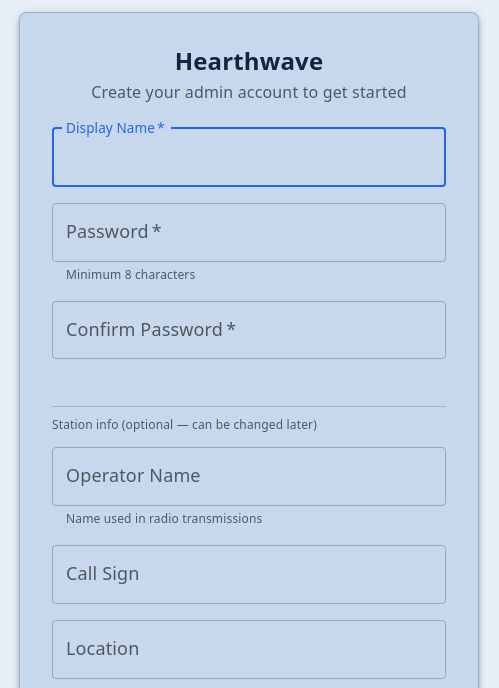
SetupScreen › error display › clears error when display name changes after error
Type "Admin" into the field labelled "Display Name *" at [249, 157], box [52, 128, 446, 187]
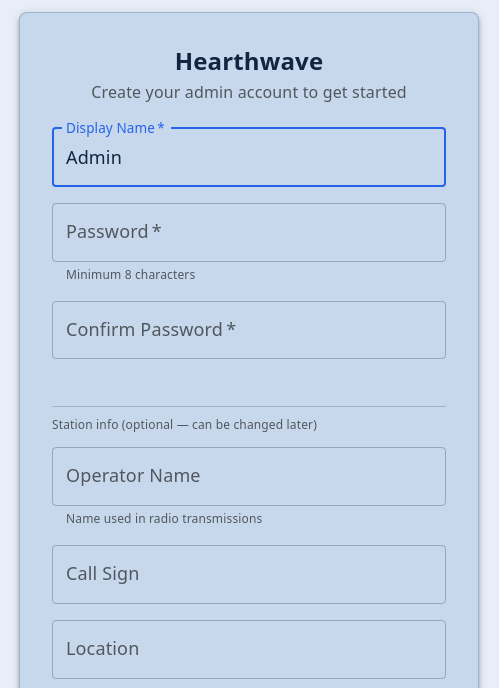
Type "password123" into the password field labelled "Password *" at [249, 232], box [52, 203, 446, 262]
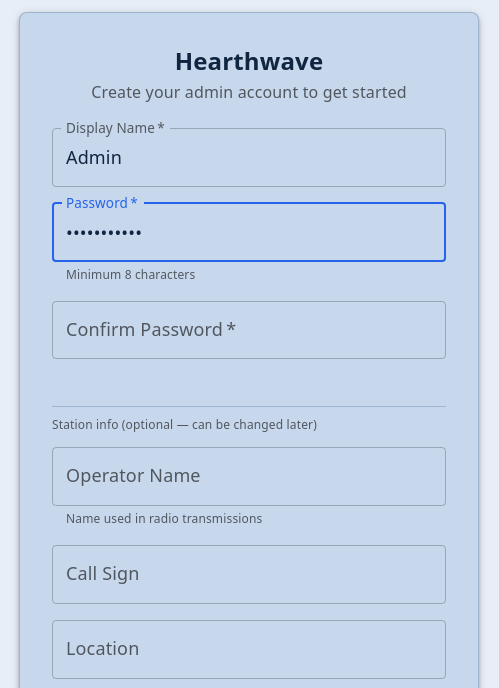
Type "password123" into the password field labelled "Confirm Password *" at [249, 330], box [52, 300, 446, 359]
(page scrolled)
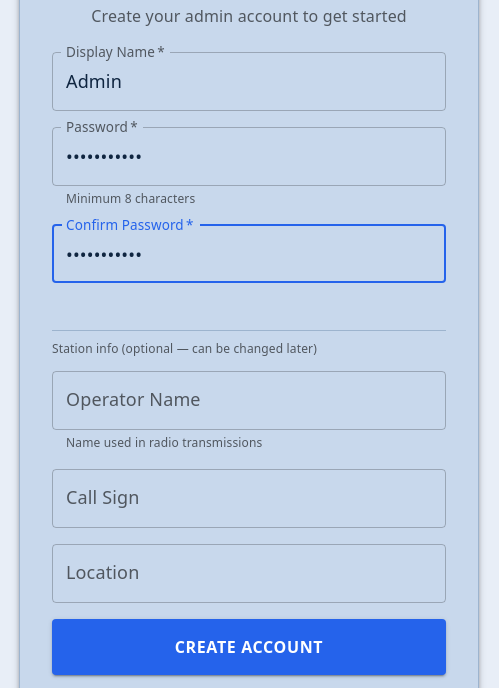
Click the button "Create Account" at [249, 647], box [52, 619, 446, 675]
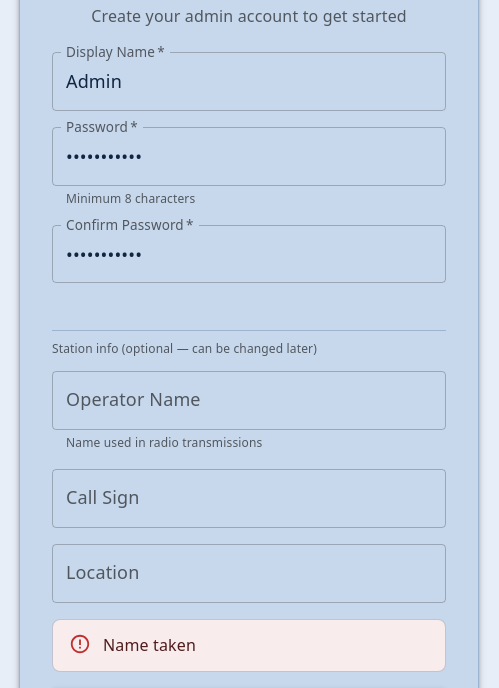
Result: the text "Name taken" is shown at [103, 634, 196, 656]
Type "X" into the field labelled "Display Name *" at [249, 81], box [52, 52, 446, 111]
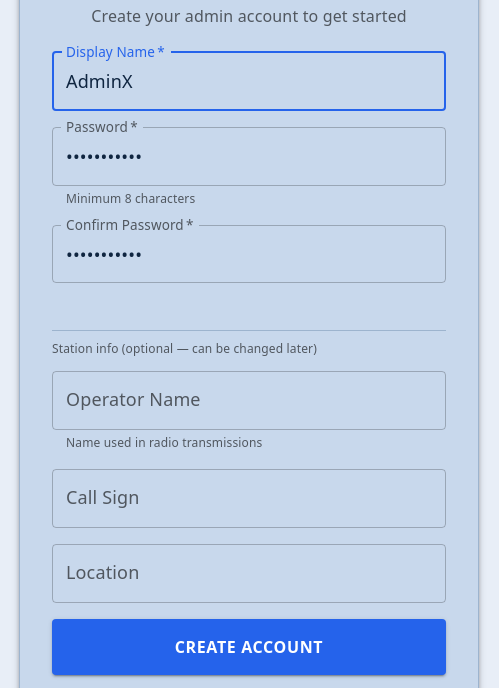
Result: the text "Name taken" is gone
